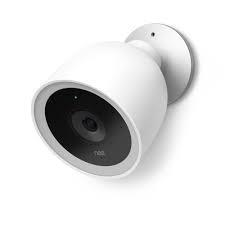tutu: (27, 11, 205, 192)
